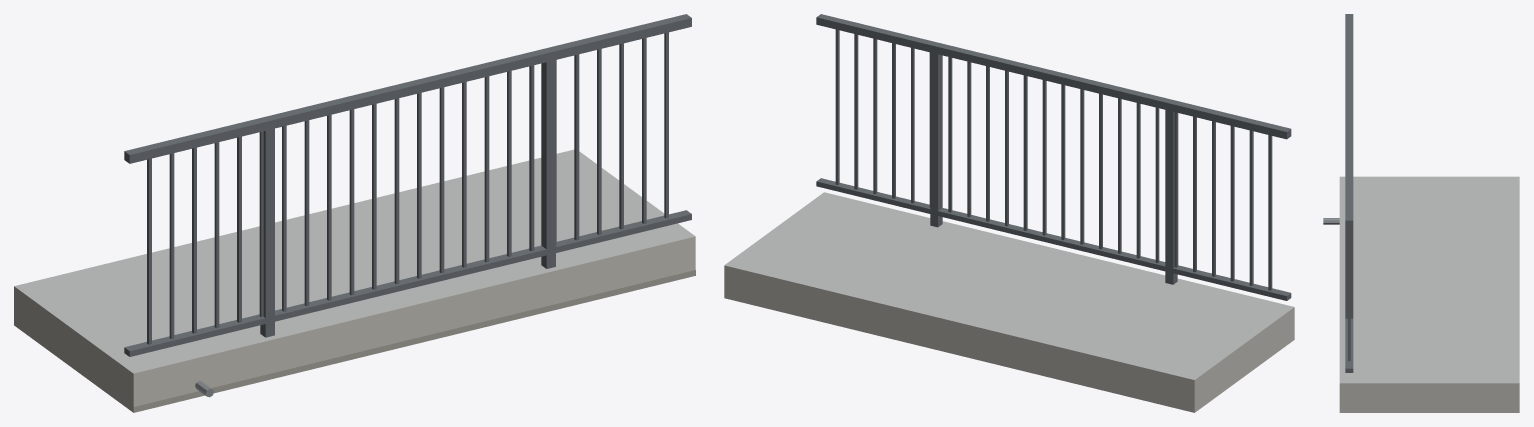
Rendered from SC_Bld_Villa_Balcony_3m_Open.gltf.
The picture shows the model from 3 angles, left to right: view 1: azimuth 30°, elevation 25°; view 2: azimuth 150°, elevation 25°; view 3: azimuth 270°, elevation 25°; orthographic projection. The views are drawn at different scales.
Parts seen in each view (by area): view 1: SC_Bld_Villa_Balcony_3m_Open; view 2: SC_Bld_Villa_Balcony_3m_Open; view 3: SC_Bld_Villa_Balcony_3m_Open.
Part boxes in pixels (bbox=[...]): SC_Bld_Villa_Balcony_3m_Open: bbox=[14, 14, 695, 412]; SC_Bld_Villa_Balcony_3m_Open: bbox=[724, 14, 1294, 412]; SC_Bld_Villa_Balcony_3m_Open: bbox=[1323, 14, 1519, 412].
Size of the model in its own units: 3 by 1.3 by 1.2.
1 material, 1 textured.
